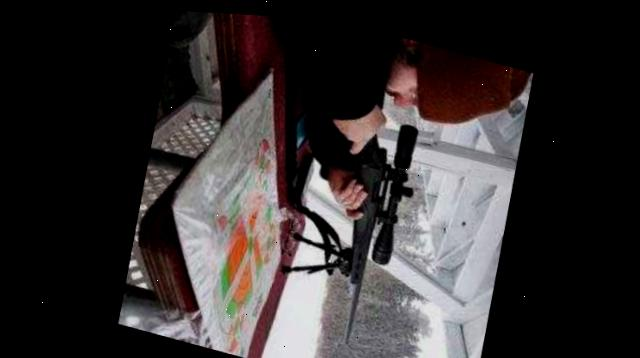rifle: (255, 12, 458, 358)
